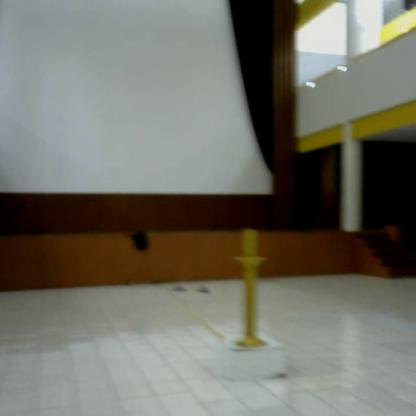pole: (232, 227, 272, 355)
